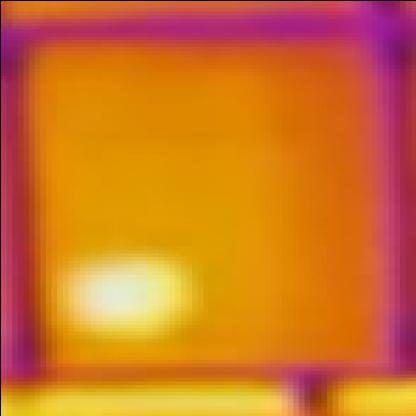Defects: (73, 264, 163, 324)
